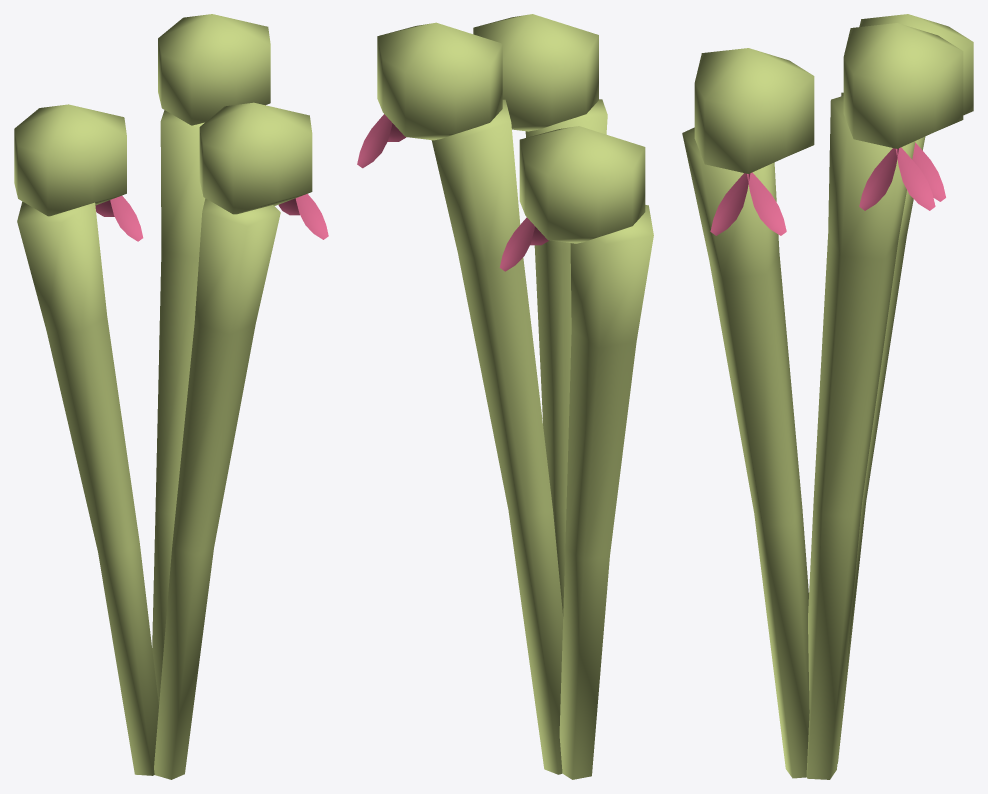
File: carnivorous_cobra_lily.glb
3 views of the same model, side by side, from view 1: azimuth 30°, elevation 25°; view 2: azimuth 150°, elevation 25°; view 3: azimuth 270°, elevation 25° (orthographic). The views are drawn at different scales.
Visible parts, largest first — view 1: Flora_Cobra_Lily; view 2: Flora_Cobra_Lily; view 3: Flora_Cobra_Lily.
Part boxes in pixels (x1,y1,x2,y2): Flora_Cobra_Lily: (14,14,328,779); Flora_Cobra_Lily: (357,14,653,779); Flora_Cobra_Lily: (682,14,973,779).
Size of the model in its own units: 0.3212 by 0.8269 by 0.2745.
